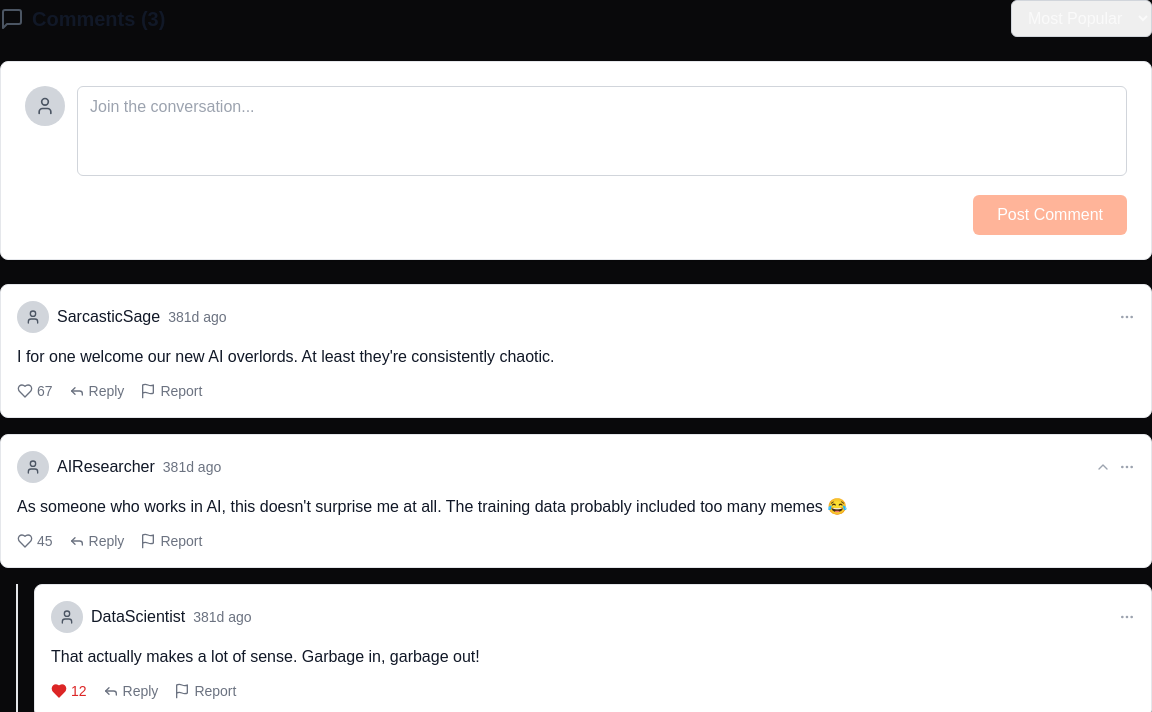
it: CommentSystem › opens reply form when reply button is clicked
This screenshot has width=1152, height=712.
expect the text "SarcasticSage" is shown: met, box [57,308,160,325]
Click the button "Reply" below "SarcasticSage".
click(96, 391)  # box [69,381,124,401]
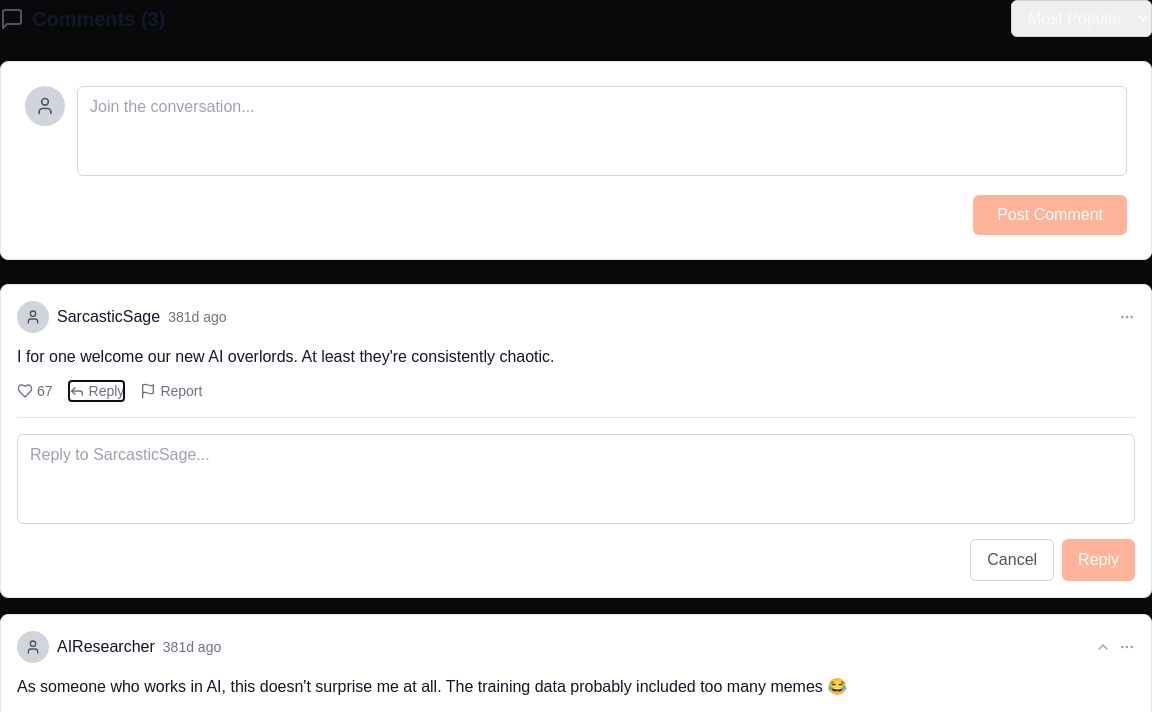
expect the text box with placeholder "Reply to SarcasticSage..." is shown: met, box [17,434,1135,524]
expect the button "Cancel" is shown: met, box [970,539,1054,581]
